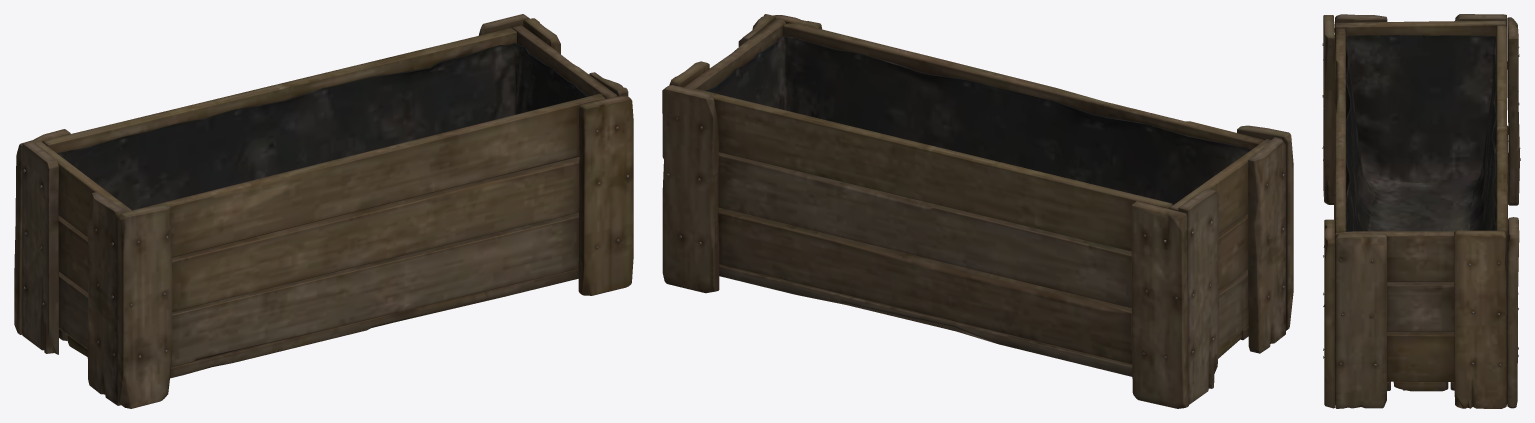
The model's file is planter_box_02.glb.
3 renders of one model, left to right at view 1: azimuth 30°, elevation 25°; view 2: azimuth 150°, elevation 25°; view 3: azimuth 270°, elevation 25°, orthographic. The views are drawn at different scales.
Visible parts, largest first — view 1: planter_box_02; view 2: planter_box_02; view 3: planter_box_02.
Part boxes in pixels (x1,y1,x2,y2): planter_box_02: (14,14,633,408); planter_box_02: (662,14,1293,408); planter_box_02: (1322,14,1520,408).
Bounding box in the file's own units: 1.25 × 0.4534 × 0.4671.
1 material, 1 textured.
